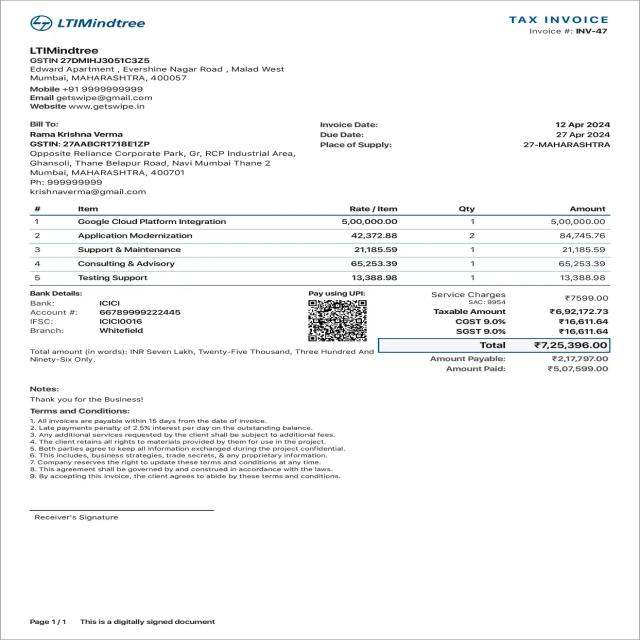QRCode: (306, 297, 371, 343)
